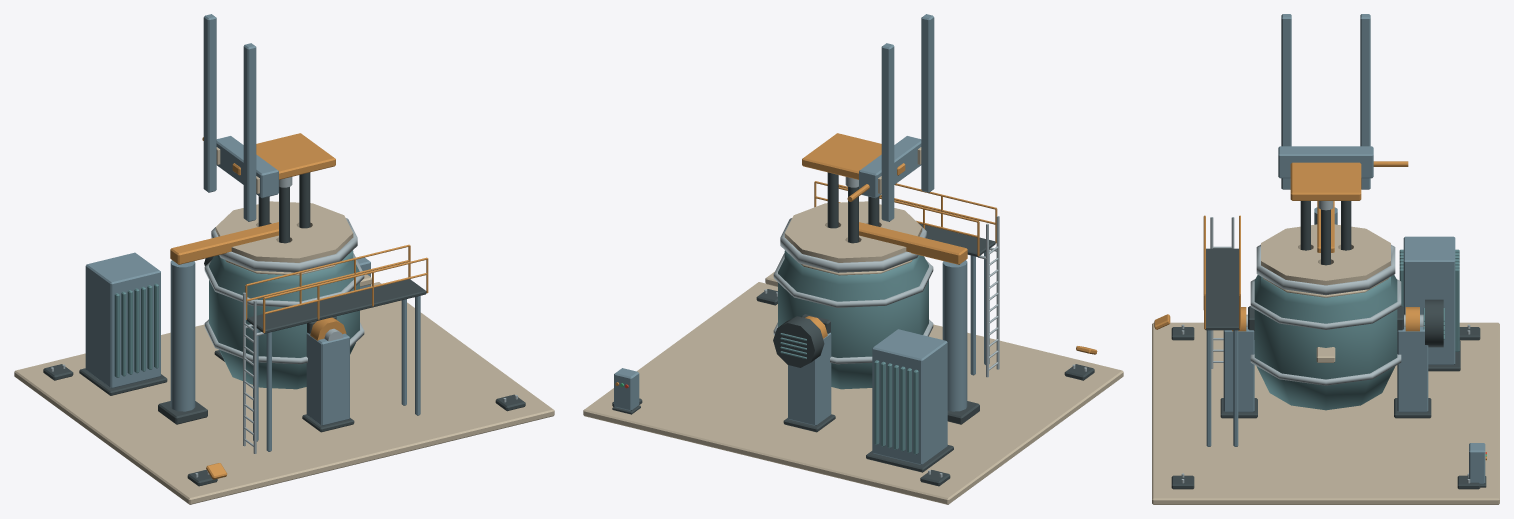
Rendered from STS-PLATE-02-lod2.glb.
The picture shows the model from 3 angles, left to right: view 1: azimuth 30°, elevation 25°; view 2: azimuth 150°, elevation 25°; view 3: azimuth 270°, elevation 25°; orthographic projection.
Visible parts, largest first — view 1: foundation, refractory_vessel, transformer_cabinet, roof_shell, roof_pivot_column, far_pedestal, eaf_service_deck, roof_electrode_guide_-0.95, roof_electrode_guide_0.95, electrode_carrier, roof_swing_arm, electrode_slide_carriage (+11 smaller); view 2: foundation, refractory_vessel, transformer_cabinet, roof_shell, roof_pivot_column, near_pedestal, roof_electrode_guide_0.95, roof_electrode_guide_-0.95, electrode_carrier, roof_swing_arm, tilt_gearbox, roof_water_jacket (+7 smaller); view 3: foundation, refractory_vessel, roof_shell, transformer_cabinet, electrode_carrier, eaf_service_deck, near_pedestal, far_pedestal, electrode_slide_carriage, roof_water_jacket, roof_electrode_guide_-0.95, roof_electrode_guide_0.95 (+10 smaller).
Boxes of the visible parts, bbox=[...] form: foundation: bbox=[14, 282, 554, 504]; refractory_vessel: bbox=[209, 250, 359, 389]; transformer_cabinet: bbox=[85, 252, 160, 388]; roof_shell: bbox=[215, 201, 353, 262]; roof_pivot_column: bbox=[170, 260, 195, 411]; far_pedestal: bbox=[306, 332, 349, 425]; eaf_service_deck: bbox=[247, 279, 426, 333]; roof_electrode_guide_-0.95: bbox=[203, 14, 216, 192]; roof_electrode_guide_0.95: bbox=[243, 43, 256, 221]; electrode_carrier: bbox=[256, 133, 335, 179]; roof_swing_arm: bbox=[170, 222, 278, 264]; electrode_slide_carriage: bbox=[216, 136, 278, 198]; foundation: bbox=[583, 282, 1123, 504]; refractory_vessel: bbox=[778, 250, 928, 389]; transformer_cabinet: bbox=[872, 329, 947, 464]; roof_shell: bbox=[784, 201, 922, 262]; roof_pivot_column: bbox=[942, 260, 967, 411]; near_pedestal: bbox=[788, 332, 831, 425]; roof_electrode_guide_0.95: bbox=[921, 14, 934, 192]; roof_electrode_guide_-0.95: bbox=[881, 43, 894, 221]; electrode_carrier: bbox=[802, 133, 881, 179]; roof_swing_arm: bbox=[859, 222, 967, 264]; tilt_gearbox: bbox=[773, 316, 824, 367]; roof_water_jacket: bbox=[780, 218, 926, 272]; foundation: bbox=[1152, 322, 1499, 504]; refractory_vessel: bbox=[1254, 275, 1397, 410]; roof_shell: bbox=[1261, 224, 1390, 285]; transformer_cabinet: bbox=[1403, 236, 1455, 364]; electrode_carrier: bbox=[1290, 162, 1361, 200]; eaf_service_deck: bbox=[1205, 248, 1239, 330]; near_pedestal: bbox=[1397, 327, 1428, 412]; far_pedestal: bbox=[1223, 327, 1254, 412]; electrode_slide_carriage: bbox=[1278, 146, 1373, 178]; roof_water_jacket: bbox=[1256, 244, 1395, 295]; roof_electrode_guide_-0.95: bbox=[1360, 14, 1370, 189]; roof_electrode_guide_0.95: bbox=[1281, 14, 1291, 189].
Size of the model in its own units: 10.1 by 10.02 by 8.4.
